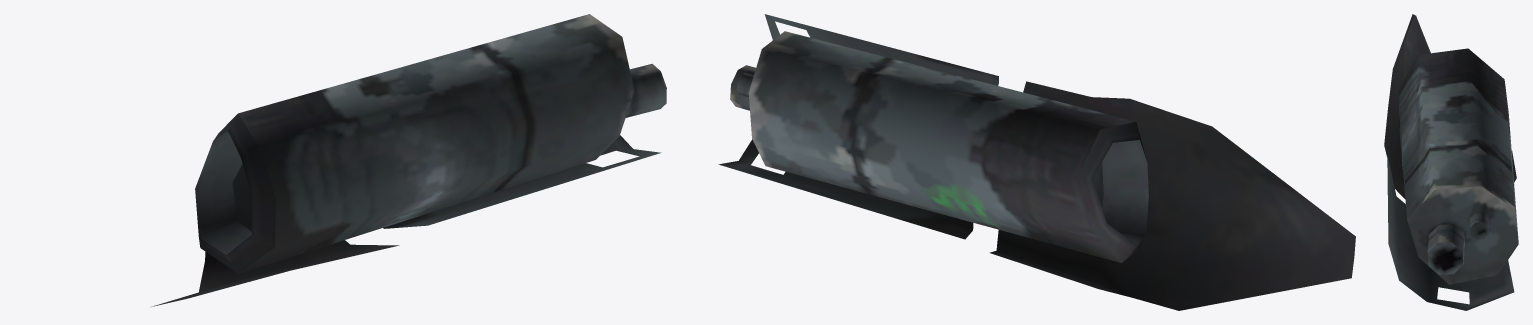
The model's file is latrobo_gun_right.glb.
3 renders of one model, left to right at view 1: azimuth 30°, elevation 25°; view 2: azimuth 150°, elevation 25°; view 3: azimuth 270°, elevation 25°, orthographic. The views are drawn at different scales.
Parts seen in each view (by area): view 1: latrobo_gun_right_0; view 2: latrobo_gun_right_0; view 3: latrobo_gun_right_0.
Boxes of the visible parts, bbox=[...] form: latrobo_gun_right_0: bbox=[150, 14, 666, 307]; latrobo_gun_right_0: bbox=[718, 14, 1355, 310]; latrobo_gun_right_0: bbox=[1384, 14, 1518, 310].
Size of the model in its own units: 32.8 by 8.63 by 7.2.
Materials: 1 (1 with a texture image).
